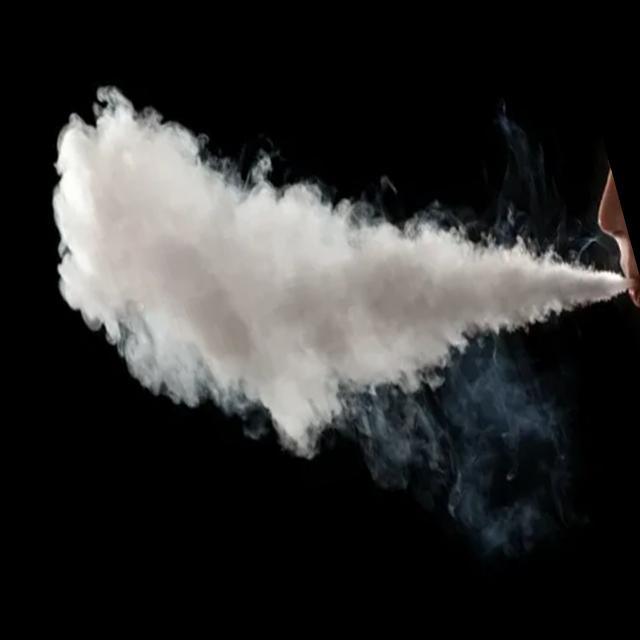Smoke: (13, 0, 640, 483)
